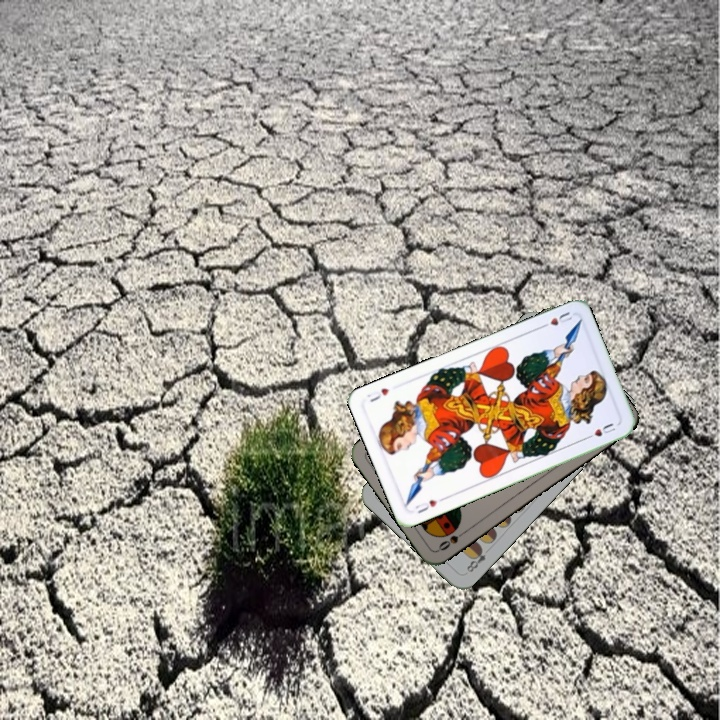E8: (462, 543, 493, 575)
HU: (536, 308, 575, 331), (411, 494, 447, 516)
SO: (434, 526, 470, 553)
